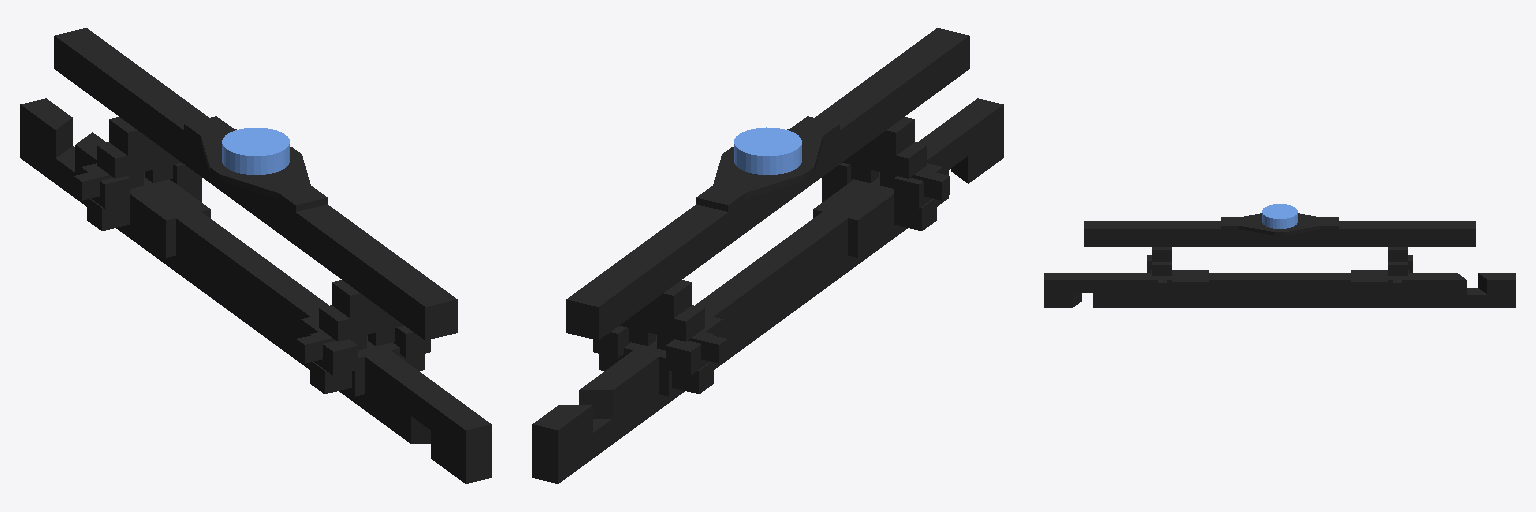
URDF robot description (tool__delta_assembly_task):
<?xml version="1.0" ?>
<robot name="tool__delta_assembly_task">

    <!-- Import Rviz colors -->
    <material name="Grey">
        <color rgba="0.2 0.2 0.2 1."/>
    </material>
    <material name="Orange">
        <color rgba="1.0 0.423529411765 0.0392156862745 0.5"/>
    </material>
    <material name="Blue">
        <color rgba="0.5 0.7 1.0 0.5"/>
    </material>
    <material name="beam_color">
        <color rgba="0.72 0.60 0.30 1.0"/>
    </material>


    <!-- Joint from Base to FT-Sensor Below -->
    <joint name="joint_ft" type="fixed">
        <parent link="base"/>
        <child link="ft_sensor"/>
        <origin rpy="0 0 0 " xyz="0.0 0.0 0.0"/>
        <dynamics damping="0.5"/>
    </joint>

    <!-- Joint from FT-Sensor to Gripper-Beam Below -->
    <joint name="joint_gripper" type="fixed">
        <parent link="ft_sensor"/>
        <child link="gripper_double_notch_beam"/>
        <origin rpy="0 0 0 " xyz="0.0 0.0 0.0"/>
        <dynamics damping="0.5"/>
    </joint>

    <!-- Joint from Gripper-Beam to Virtual Member Below -->
    <joint name="joint_member" type="fixed">
        <parent link="gripper_double_notch_beam"/>
        <child link="member"/>
        <!-- Offset 40 mm (beam half-depth) + 155 mm (beam offset from world origin)-->
        <origin rpy="0 0 0 " xyz="0.0 0.0 -0.195"/>
        <dynamics damping="0.5"/>
    </joint>


    <!-- Virtual Base Link -->
    <link name="base">
      <inertial>
          <origin rpy="0 0 0" xyz="0 0 0"/>
          <mass value="0.001"/>
          <inertia ixx="0.001" ixy="0" ixz="0" iyy="0.001" iyz="0" izz="0.001"/>
      </inertial>
    </link>

    <!-- Virtual Member Link to Computer Distance to Target -->
    <link name="member">
      <inertial>
          <origin rpy="0 0 0" xyz="0 0 0"/>
          <mass value="0.01"/>
          <inertia ixx="0.001" ixy="0" ixz="0" iyy="0.001" iyz="0" izz="0.001"/>
      </inertial>
    </link>

    <!-- FT-Sensor Link -->
    <link name="ft_sensor">
    <inertial>
          <mass value="1.964"/>
          <inertia ixx="0.001" ixy="0" ixz="0" iyy="0.001" iyz="0" izz="0.001"/>
    </inertial>
    <visual>
        <material name="Blue"/>
        <geometry>
          <mesh filename="sensor/meshes/visual/ft_sensor.stl"/>
        </geometry>
    </visual>
    <collision>
        <geometry>
          <mesh filename="sensor/meshes/collision/ft_sensor.stl"/>
        </geometry>
    </collision>
    </link>

    <!-- EF Link -->
    <link name="gripper_double_notch_beam">
        <inertial>
            <origin rpy="0 0 0" xyz="0.0 0.0 0.09963736"/>
            <mass value="8.56"/>
            <inertia ixx="0.01" ixy="0" ixz="0" iyy="0.01" iyz="0" izz="0.01"/>
        </inertial>
        <visual>
            <geometry>
                <mesh filename="gripper_double_notch_delta_beam__unilateral/meshes/visual/gripper_double_notch_delta_beam__unilateral.stl"/>
            </geometry>
            <material name="Grey"/>
        </visual>
        <collision>
            <geometry>
                <mesh filename="gripper_double_notch_delta_beam__unilateral/meshes/collision/gripper_00.stl"/>
            </geometry>
        </collision>
        <collision>
            <geometry>
                <mesh filename="gripper_double_notch_delta_beam__unilateral/meshes/collision/gripper_01.stl"/>
            </geometry>
        </collision>
        <collision>
            <geometry>
                <mesh filename="gripper_double_notch_delta_beam__unilateral/meshes/collision/gripper_02.stl"/>
            </geometry>
        </collision>
        <collision>
            <geometry>
                <mesh filename="gripper_double_notch_delta_beam__unilateral/meshes/collision/gripper_03.stl"/>
            </geometry>
        </collision>
        <collision>
            <geometry>
                <mesh filename="gripper_double_notch_delta_beam__unilateral/meshes/collision/gripper_04.stl"/>
            </geometry>
        </collision>
        <collision>
            <geometry>
                <mesh filename="gripper_double_notch_delta_beam__unilateral/meshes/collision/gripper_05.stl"/>
            </geometry>
        </collision>
        <collision>
            <geometry>
                <mesh filename="gripper_double_notch_delta_beam__unilateral/meshes/collision/gripper_06.stl"/>
            </geometry>
        </collision>
        <collision>
            <geometry>
                <mesh filename="gripper_double_notch_delta_beam__unilateral/meshes/collision/gripper_07.stl"/>
            </geometry>
        </collision>
        <collision>
            <geometry>
                <mesh filename="gripper_double_notch_delta_beam__unilateral/meshes/collision/gripper_08.stl"/>
            </geometry>
        </collision>
        <collision>
            <geometry>
                <mesh filename="gripper_double_notch_delta_beam__unilateral/meshes/collision/gripper_09.stl"/>
            </geometry>
        </collision>
        <collision>
            <geometry>
                <mesh filename="gripper_double_notch_delta_beam__unilateral/meshes/collision/gripper_10.stl"/>
            </geometry>
        </collision>
        <collision>
            <geometry>
                <mesh filename="gripper_double_notch_delta_beam__unilateral/meshes/collision/gripper_11.stl"/>
            </geometry>
        </collision>
        <collision>
            <geometry>
                <mesh filename="gripper_double_notch_delta_beam__unilateral/meshes/collision/gripper_12.stl"/>
            </geometry>
        </collision>
        <collision>
            <geometry>
                <mesh filename="gripper_double_notch_delta_beam__unilateral/meshes/collision/gripper_13.stl"/>
            </geometry>
        </collision>
        <collision>
            <geometry>
                <mesh filename="gripper_double_notch_delta_beam__unilateral/meshes/collision/gripper_14.stl"/>
            </geometry>
        </collision>
        <collision>
            <geometry>
                <mesh filename="gripper_double_notch_delta_beam__unilateral/meshes/collision/gripper_15.stl"/>
            </geometry>
        </collision>
        <collision>
            <geometry>
                <mesh filename="gripper_double_notch_delta_beam__unilateral/meshes/collision/gripper_16.stl"/>
            </geometry>
        </collision>
        <collision>
            <geometry>
                <mesh filename="gripper_double_notch_delta_beam__unilateral/meshes/collision/gripper_17.stl"/>
            </geometry>
        </collision>
        <collision>
            <geometry>
                <mesh filename="gripper_double_notch_delta_beam__unilateral/meshes/collision/gripper_18.stl"/>
            </geometry>
        </collision>
        <collision>
            <geometry>
                <mesh filename="gripper_double_notch_delta_beam__unilateral/meshes/collision/gripper_19.stl"/>
            </geometry>
        </collision>
        <collision>
            <geometry>
                <mesh filename="gripper_double_notch_delta_beam__unilateral/meshes/collision/gripper_20.stl"/>
            </geometry>
        </collision>
        <collision>
            <geometry>
                <mesh filename="gripper_double_notch_delta_beam__unilateral/meshes/collision/gripper_21.stl"/>
            </geometry>
        </collision>
        <collision>
            <geometry>
                <mesh filename="gripper_double_notch_delta_beam__unilateral/meshes/collision/beam_13C_00.stl"/>
            </geometry>
        </collision>
        <collision>
            <geometry>
                <mesh filename="gripper_double_notch_delta_beam__unilateral/meshes/collision/beam_13C_01.stl"/>
            </geometry>
        </collision>
        <collision>
            <geometry>
                <mesh filename="gripper_double_notch_delta_beam__unilateral/meshes/collision/beam_13C_02.stl"/>
            </geometry>
        </collision>
        <collision>
            <geometry>
                <mesh filename="gripper_double_notch_delta_beam__unilateral/meshes/collision/beam_13C_03.stl"/>
            </geometry>
        </collision>
        <collision>
            <geometry>
                <mesh filename="gripper_double_notch_delta_beam__unilateral/meshes/collision/beam_13C_04.stl"/>
            </geometry>
        </collision>
    </link>
</robot>

--- Facts derived from the render (not from the file) ---
The picture shows the robot from 3 angles, left to right: view 1: azimuth 30°, elevation 25°; view 2: azimuth 150°, elevation 25°; view 3: azimuth 270°, elevation 25°; orthographic projection.
Robot: tool__delta_assembly_task — 4 links, 3 joints (3 fixed); root link base; default pose: every joint at zero.
Links seen in each view (by area): view 1: gripper_double_notch_beam, ft_sensor; view 2: gripper_double_notch_beam, ft_sensor; view 3: gripper_double_notch_beam, ft_sensor.
Link boxes in pixels (<box>): gripper_double_notch_beam: <box>20,28,491,483</box>; ft_sensor: <box>222,128,289,174</box>; gripper_double_notch_beam: <box>532,28,1003,483</box>; ft_sensor: <box>734,127,801,174</box>; gripper_double_notch_beam: <box>1044,213,1515,307</box>; ft_sensor: <box>1262,204,1297,228</box>.
Bounding box of the posed robot: 0.208 × 1.2 × 0.262 m (x, y, z).
2 mesh visuals loaded from 2 distinct referenced files (2 binary STL).
